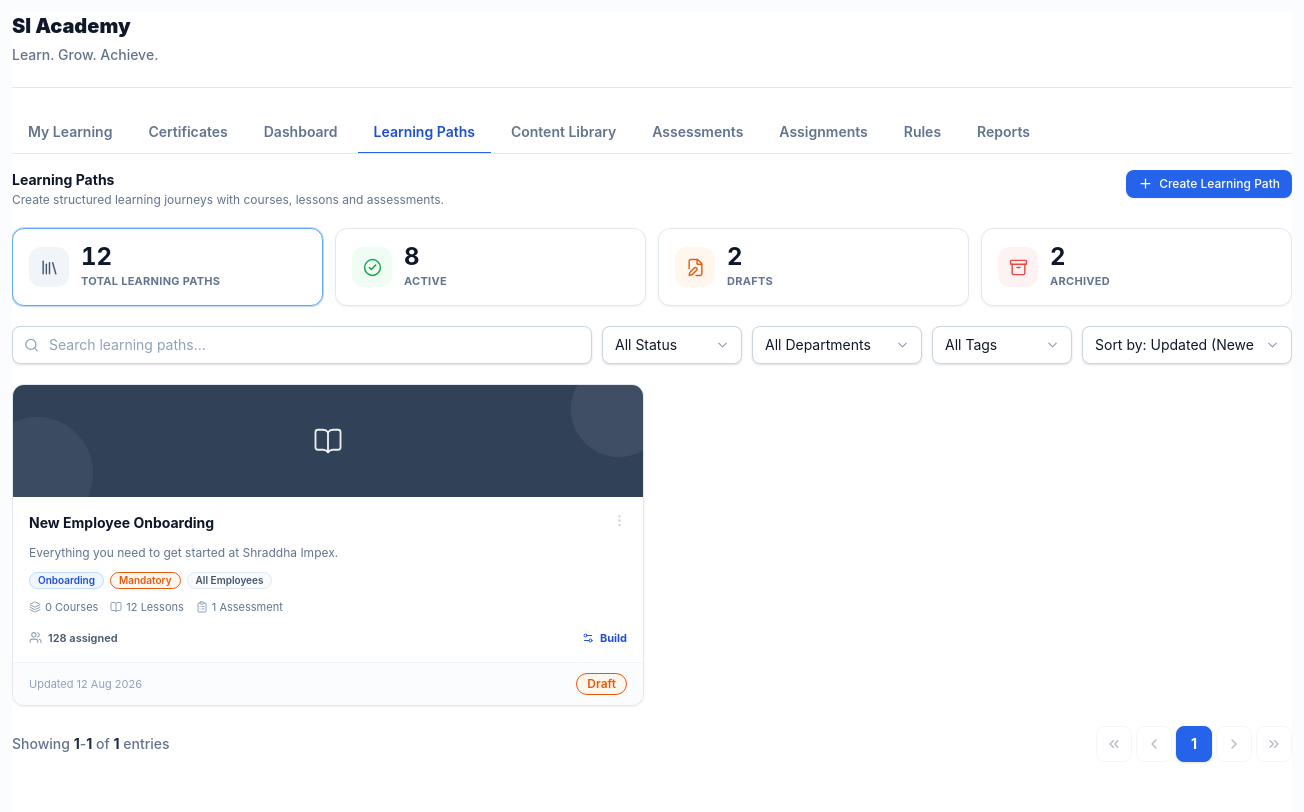
it: the learning path drawer › will not offer to assign a path with nothing in it
Click the button named "Open New Employee Onboarding". click: [328, 441]
box: [13,385,643,497]
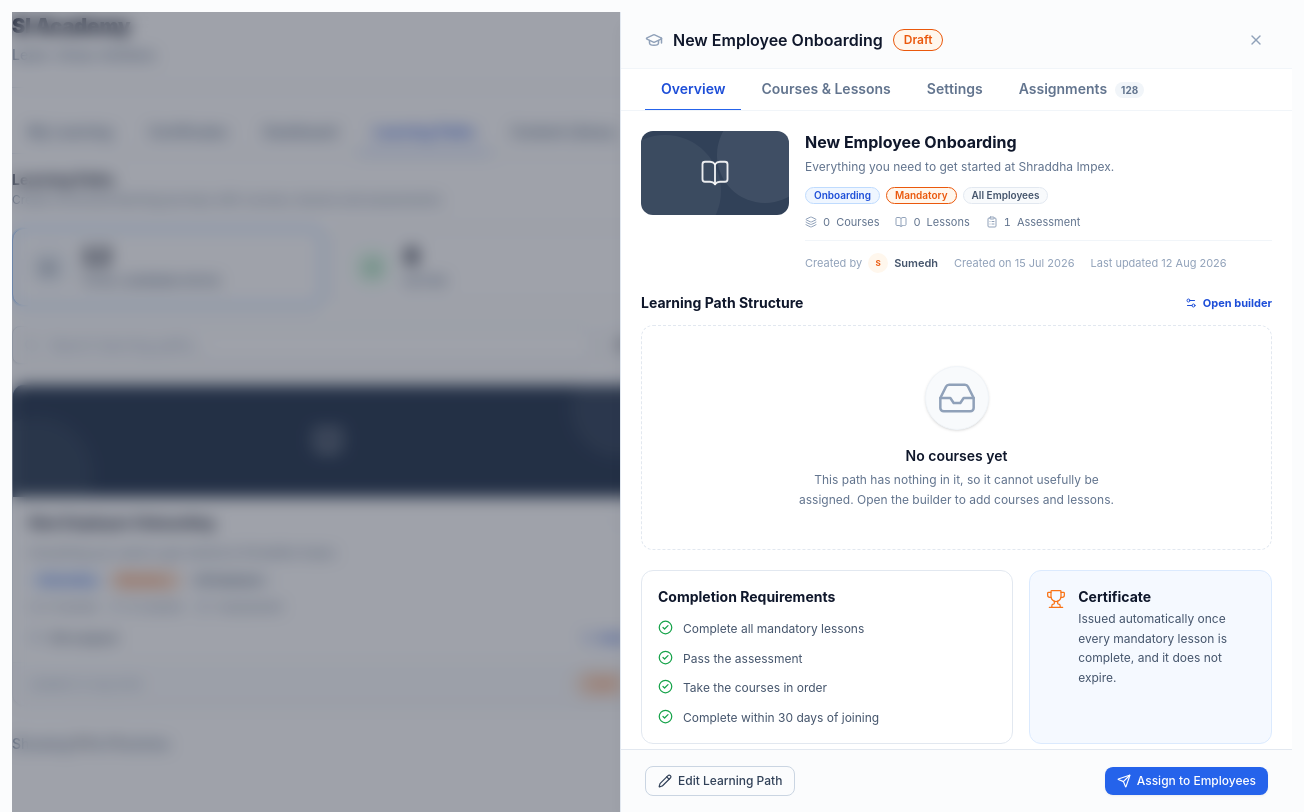
Check: the heading "No courses yet" is shown, box [906,446,1007,466]
Check: the button "Assign to Employees" is disabled, box [1105,767,1268,795]
